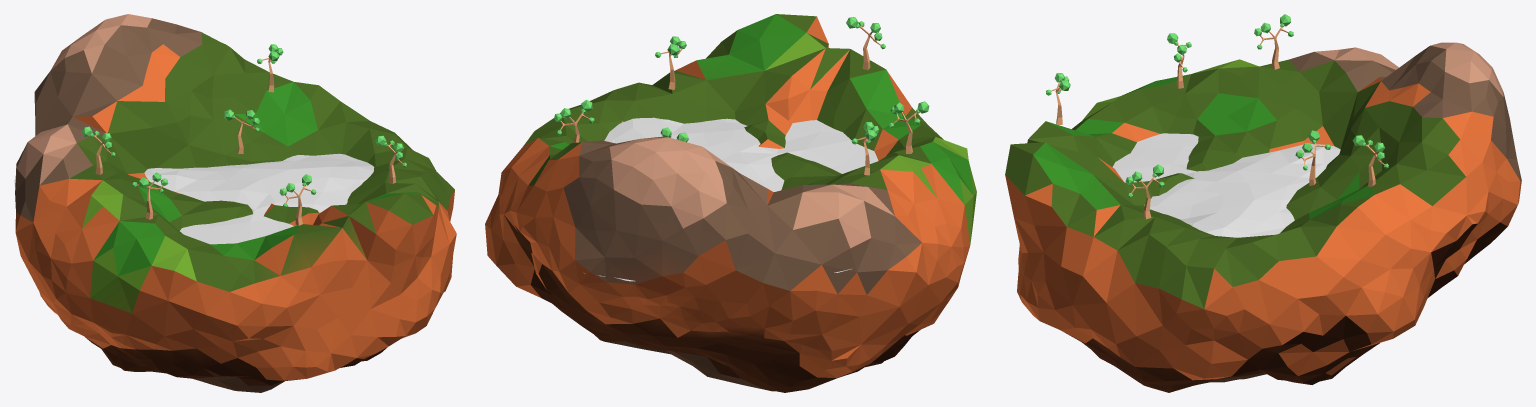
File: center island001-fbx version.fbx
3 views of the same model, side by side, from view 1: azimuth 30°, elevation 25°; view 2: azimuth 150°, elevation 25°; view 3: azimuth 270°, elevation 25° (orthographic). The views are drawn at different scales.
Visible parts, largest first — view 1: Land, Water; view 2: Land, Water; view 3: Land, Water.
Boxes of the visible parts, x1=… form: Land: x1=15, y1=14, x2=456, y2=392; Water: x1=14, y1=153, x2=374, y2=244; Land: x1=485, y1=14, x2=976, y2=392; Water: x1=584, y1=117, x2=878, y2=281; Land: x1=1005, y1=42, x2=1521, y2=392; Water: x1=1112, y1=133, x2=1521, y2=237.
Size of the model in its own units: 1733 by 1255 by 1888.
